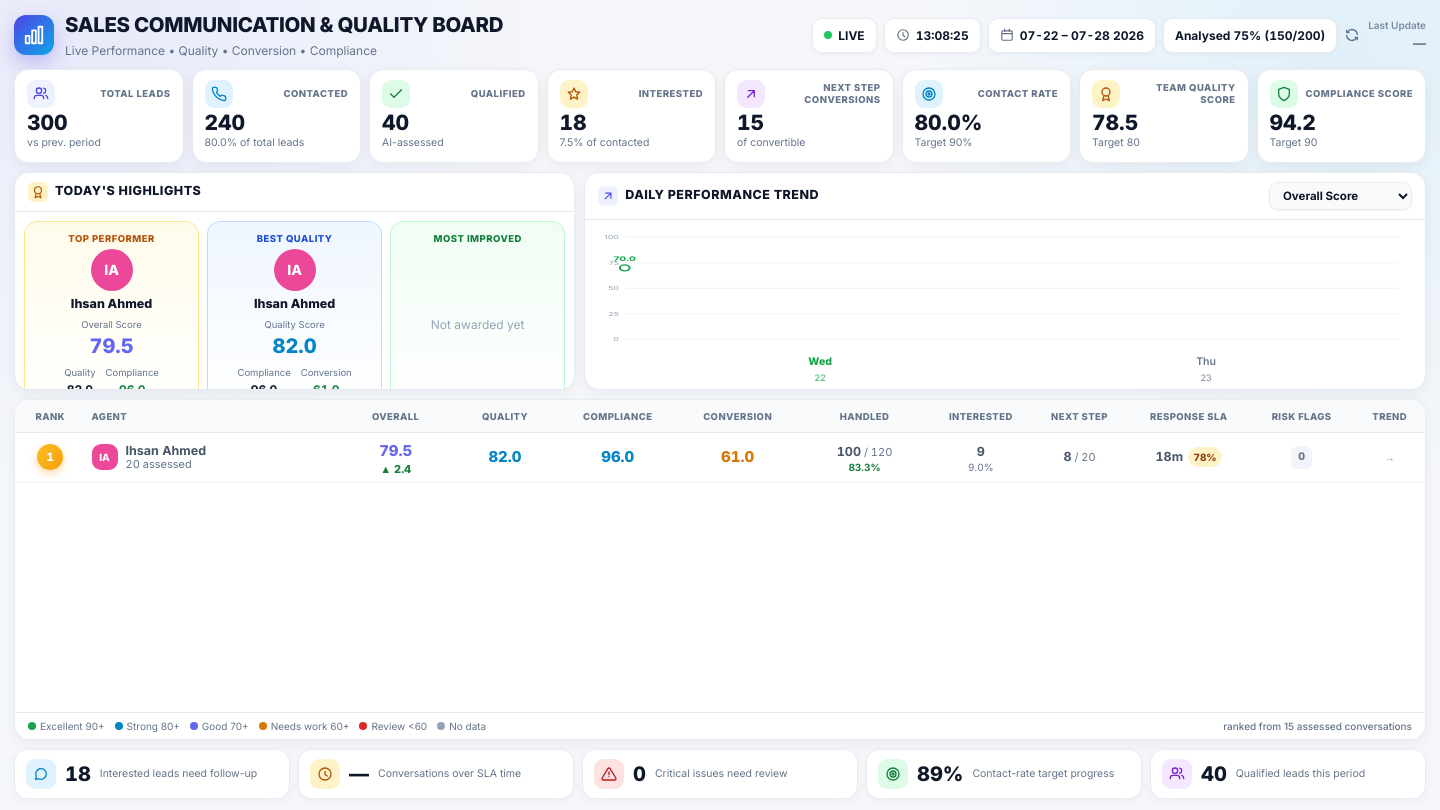
Test case: drill-down conflict badge › survives a payload with no window instead of white-screening the popup
Click the element with class "click" that starts with "Interested leads need follow-up".
click(152, 774)  # box [14, 749, 290, 799]
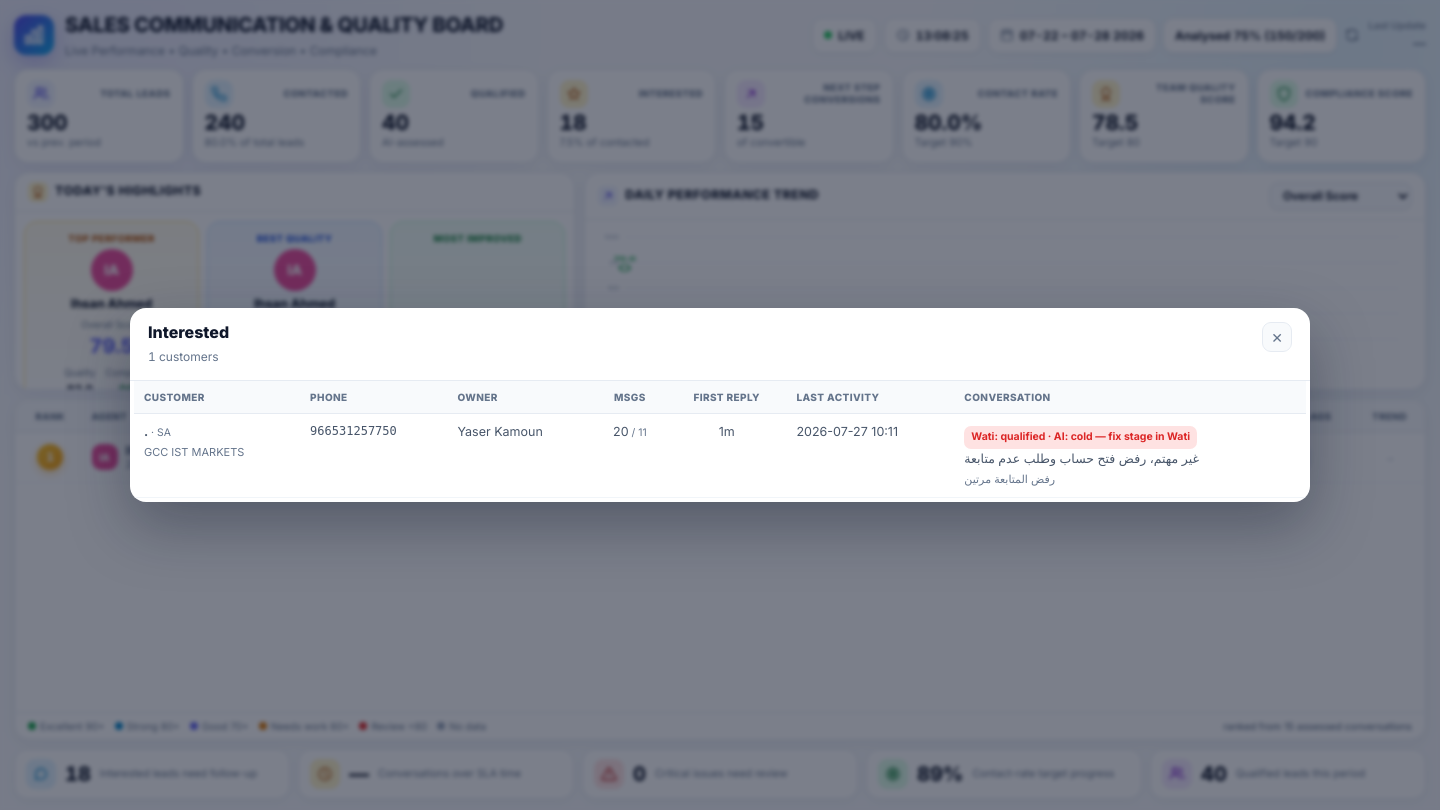
Expected: the row that starts with "GCC IST MARKETS" is shown, [134, 414, 1306, 497]
Expected: the text "1 customers" is shown, [148, 347, 229, 366]
